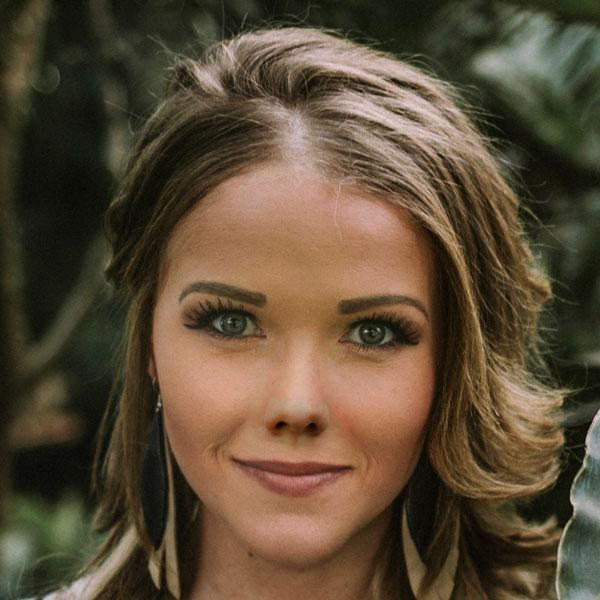Eyes: (326, 302, 421, 365), (176, 291, 275, 351)
